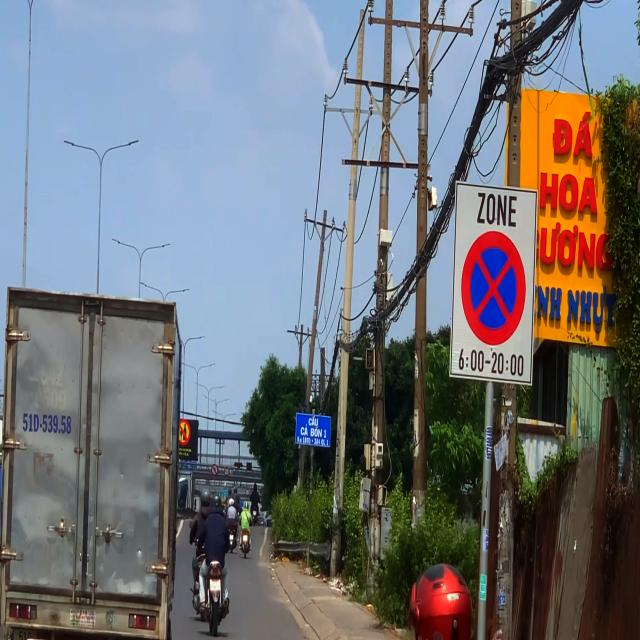Cam dung va do: (459, 229, 528, 348)
